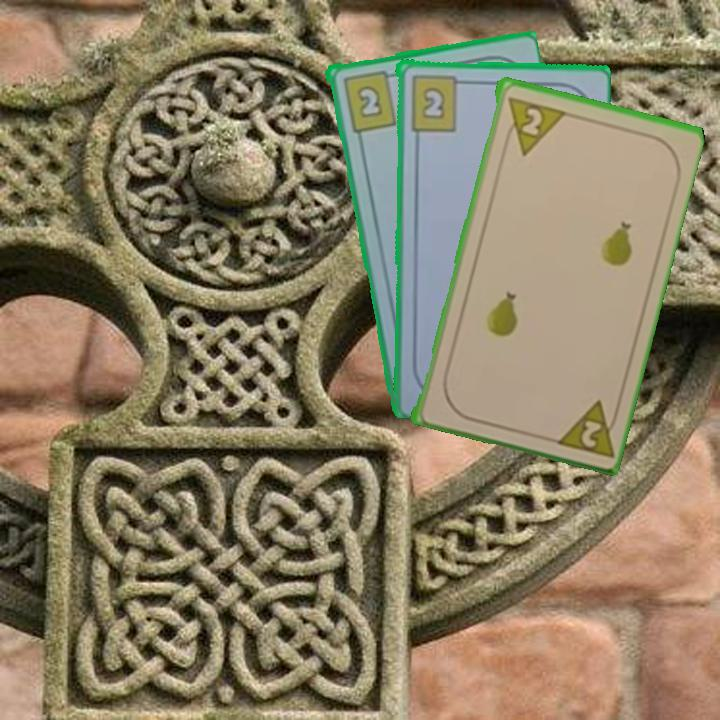2b: (339, 66, 400, 135), (406, 71, 469, 133)
2p: (549, 395, 623, 460), (501, 92, 566, 158)
